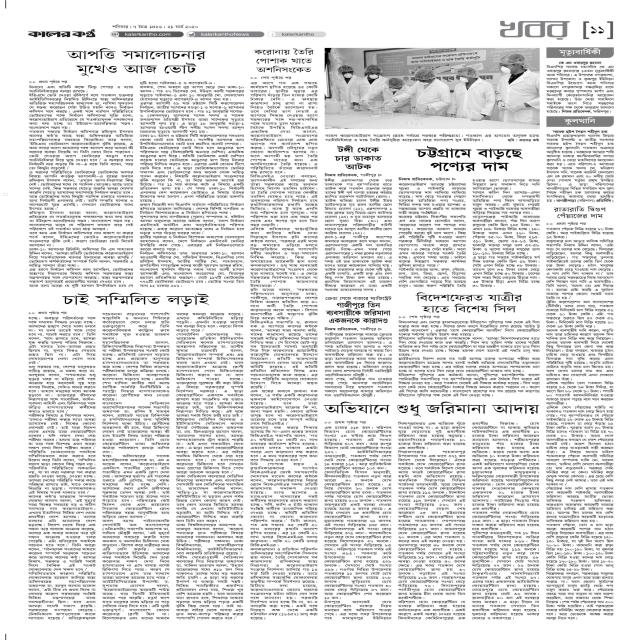caption: (323, 132, 540, 143)
image: (326, 48, 541, 130)
page number: (585, 20, 612, 39)
paragraph: (395, 451, 468, 599), (175, 332, 244, 475), (323, 465, 392, 599), (100, 521, 171, 619), (139, 135, 245, 200), (175, 523, 244, 620), (471, 531, 540, 621), (248, 465, 320, 547), (545, 404, 615, 486), (30, 211, 133, 265), (27, 414, 96, 494), (27, 494, 96, 570), (248, 547, 319, 619), (545, 132, 615, 203), (397, 364, 540, 398), (249, 321, 319, 387), (27, 129, 134, 170), (101, 456, 170, 519), (27, 170, 135, 210), (323, 174, 393, 235), (545, 239, 615, 299), (249, 227, 320, 284), (137, 251, 246, 288), (27, 92, 135, 129), (324, 236, 393, 292), (101, 345, 170, 400), (397, 215, 467, 267), (249, 175, 320, 226), (471, 424, 541, 475), (545, 522, 615, 572), (545, 329, 614, 379), (27, 571, 96, 621), (100, 404, 170, 453), (546, 65, 615, 114), (545, 572, 615, 620), (139, 102, 244, 134), (175, 475, 244, 523), (27, 316, 97, 363), (249, 127, 319, 174), (27, 367, 96, 414), (27, 367, 96, 413), (249, 80, 319, 125), (324, 330, 393, 375), (396, 336, 540, 356), (472, 216, 540, 255), (249, 425, 319, 462), (545, 486, 615, 522), (471, 475, 540, 511), (324, 425, 393, 461), (397, 319, 541, 336), (250, 389, 318, 425), (397, 180, 467, 214), (249, 287, 319, 321), (323, 132, 539, 143), (472, 255, 541, 288), (27, 268, 135, 288), (101, 311, 171, 341), (29, 211, 134, 231), (29, 248, 133, 268), (397, 421, 466, 450), (545, 301, 615, 328), (139, 84, 245, 101), (139, 218, 245, 235), (545, 381, 615, 404), (139, 236, 245, 251), (471, 191, 540, 214), (30, 232, 134, 247), (139, 202, 246, 216), (397, 600, 466, 621), (322, 601, 394, 621), (323, 377, 393, 397), (398, 268, 467, 288), (175, 312, 244, 332), (471, 511, 540, 530), (29, 84, 133, 94), (544, 227, 616, 239), (471, 178, 540, 190), (142, 80, 217, 86), (399, 315, 442, 320)
text: (110, 23, 200, 30), (410, 55, 481, 62), (272, 30, 323, 37), (397, 176, 457, 181), (554, 129, 609, 134), (27, 310, 69, 315), (398, 315, 440, 320), (28, 79, 68, 84), (557, 60, 603, 64), (254, 75, 292, 79), (554, 221, 588, 225), (325, 420, 368, 423), (101, 340, 128, 344), (442, 450, 466, 453), (148, 401, 171, 404), (499, 421, 516, 425), (155, 341, 170, 344)
title: (65, 47, 210, 76), (319, 400, 541, 418), (415, 146, 526, 173), (412, 291, 526, 314), (59, 291, 213, 307), (485, 18, 581, 40), (324, 298, 393, 325), (252, 47, 315, 75), (332, 145, 383, 171), (25, 28, 96, 40), (552, 205, 608, 219), (557, 48, 605, 56), (564, 118, 597, 125)
